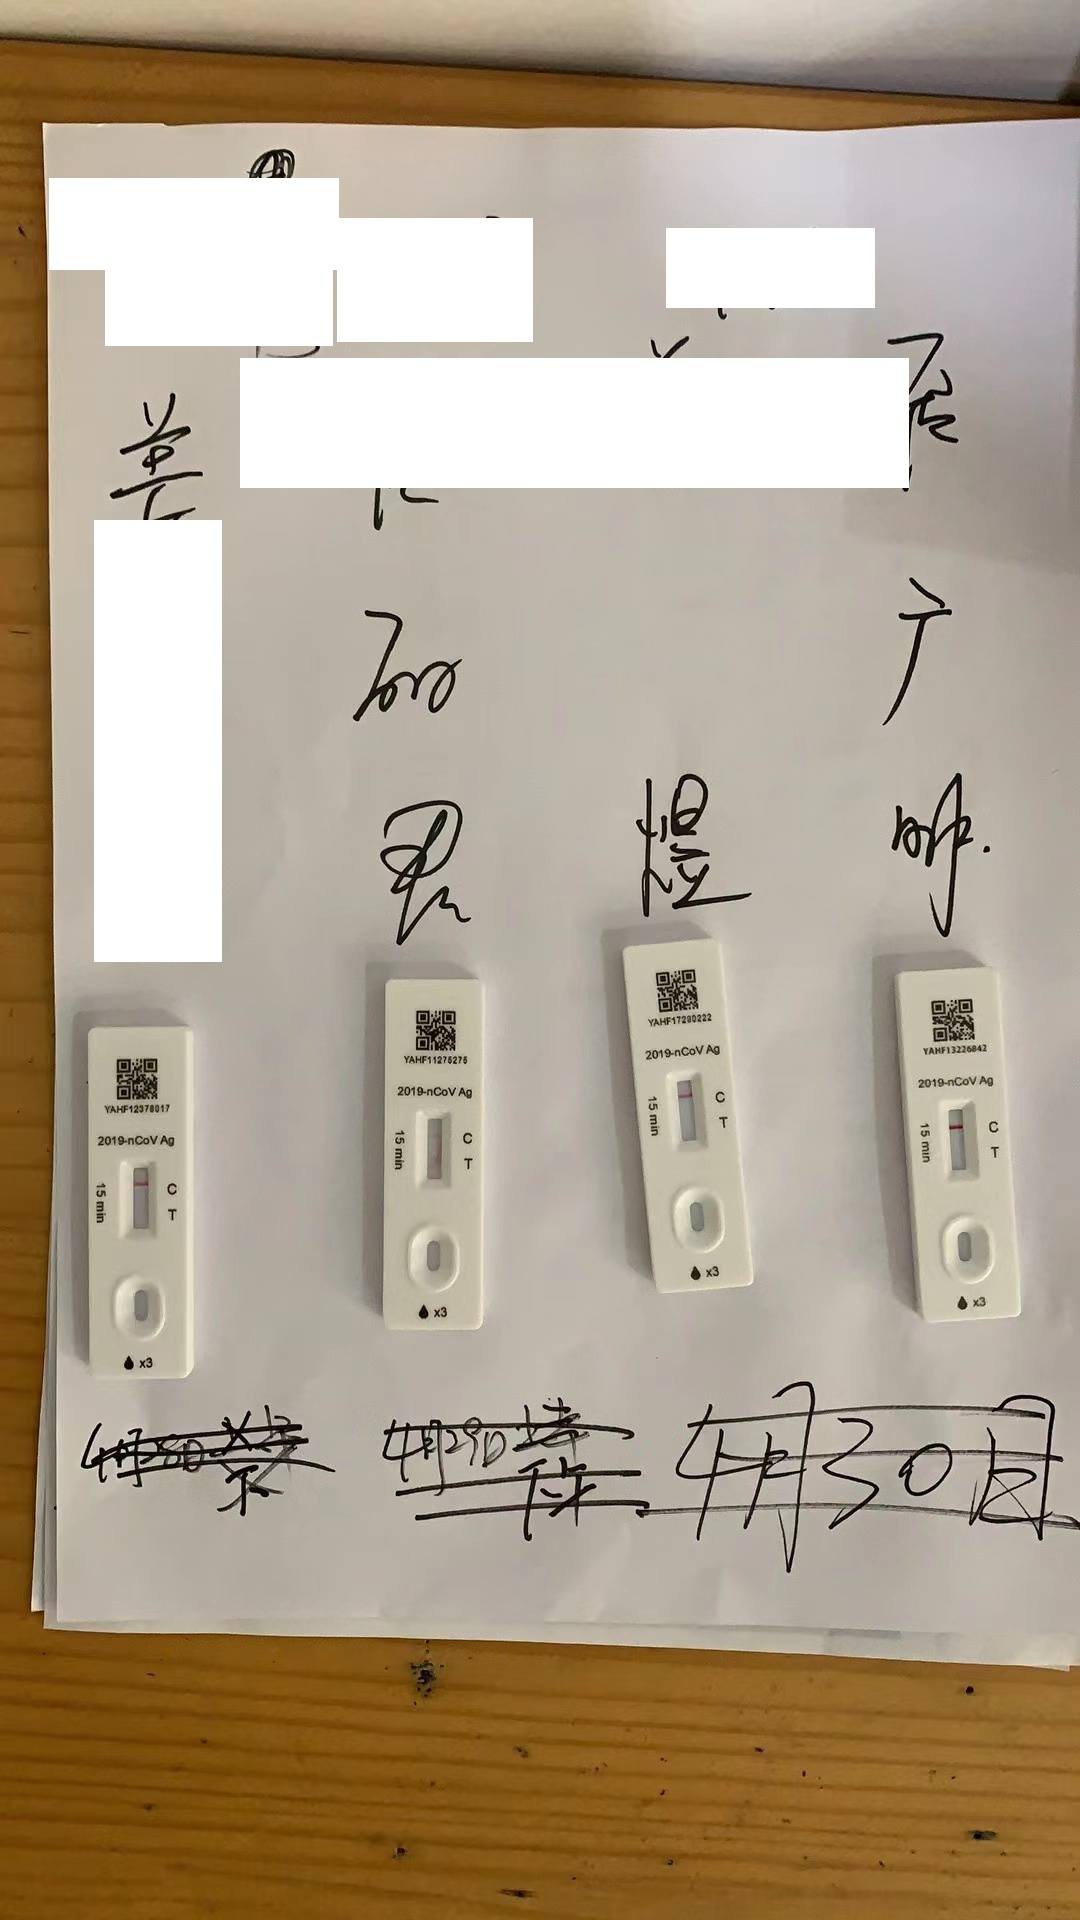negative: (123, 1163, 156, 1241), (674, 1069, 705, 1149), (945, 1102, 977, 1178), (422, 1110, 448, 1189)
